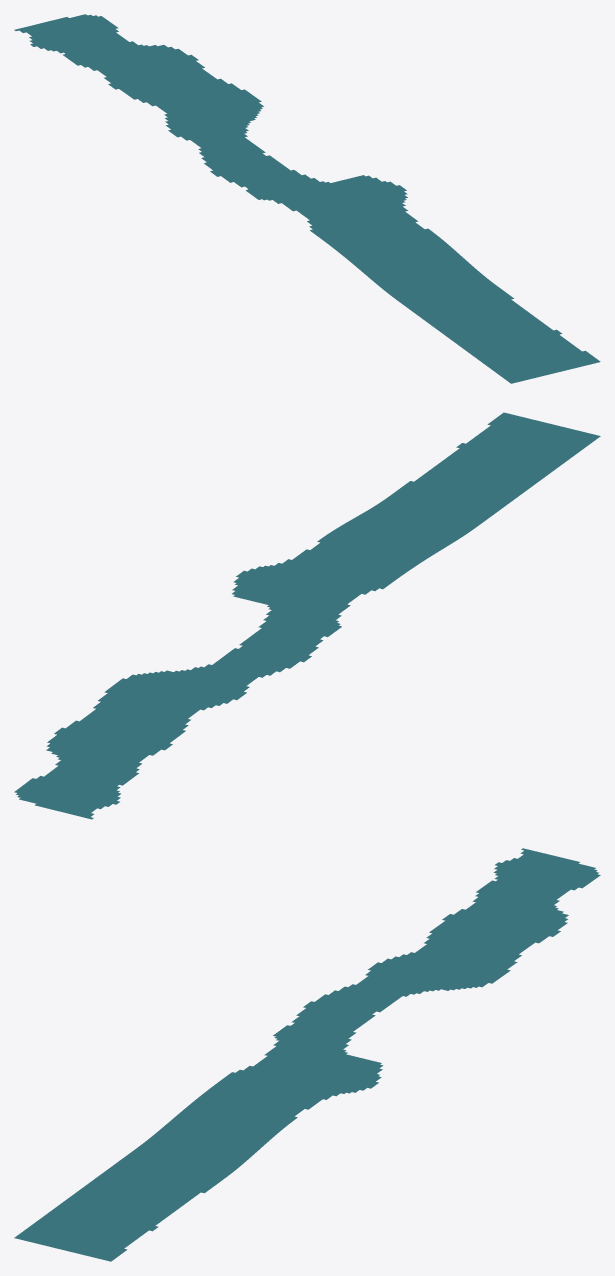
File: eau-reference-0-3.glb
3 renders of one model, top to bottom at view 1: azimuth 30°, elevation 25°; view 2: azimuth 150°, elevation 25°; view 3: azimuth 330°, elevation 25°, orthographic. The views are drawn at different scales.
Visible parts, largest first — view 1: eau-reference-0-3; view 2: eau-reference-0-3; view 3: eau-reference-0-3.
Part boxes in pixels (x1,y1,x2,y2): eau-reference-0-3: [14, 14, 600, 383]; eau-reference-0-3: [14, 412, 600, 819]; eau-reference-0-3: [14, 848, 600, 1261].
Size of the model in its own units: 156 by 8 by 1008.
